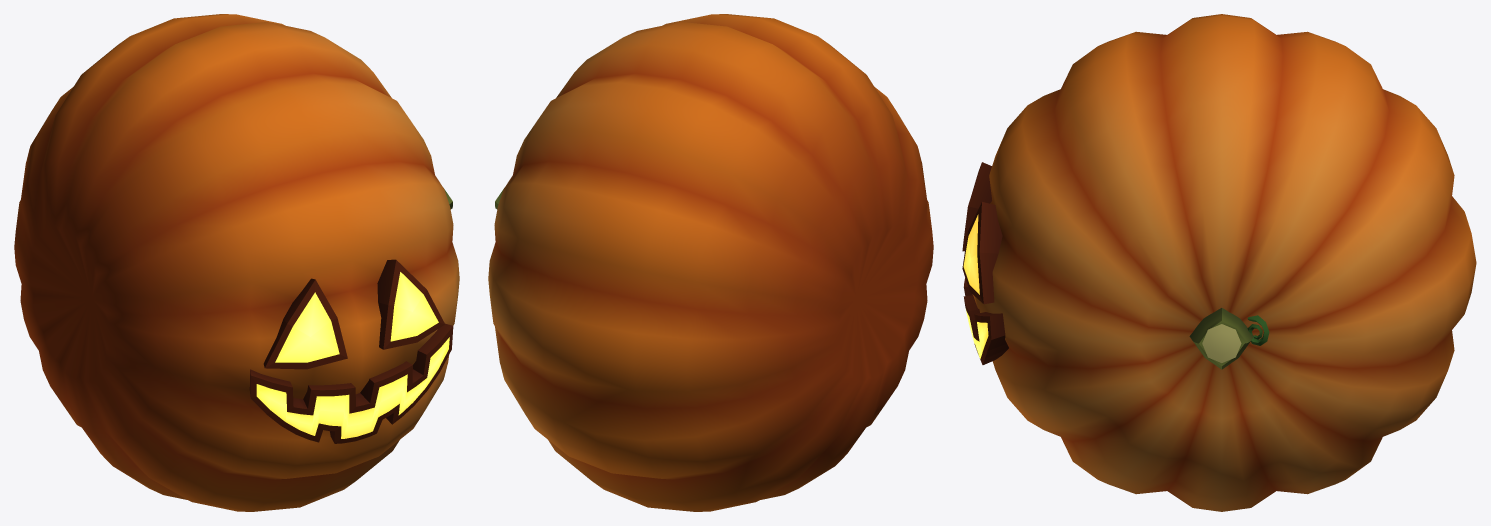
Rendered from rolling_haunted.glb.
3 renders of one model, left to right at view 1: azimuth 30°, elevation 25°; view 2: azimuth 150°, elevation 25°; view 3: azimuth 270°, elevation 25°, orthographic.
Parts seen in each view (by area): view 1: shell, face; view 2: shell; view 3: shell, face.
Part boxes in pixels (box(x1,y1,x2,y2)): shell: box(14, 14, 459, 511); face: box(249, 259, 453, 443); shell: box(488, 14, 933, 511); shell: box(972, 14, 1476, 511); face: box(962, 162, 1008, 364).
Size of the model in its own units: 0.9534 by 1.1 by 1.11.
